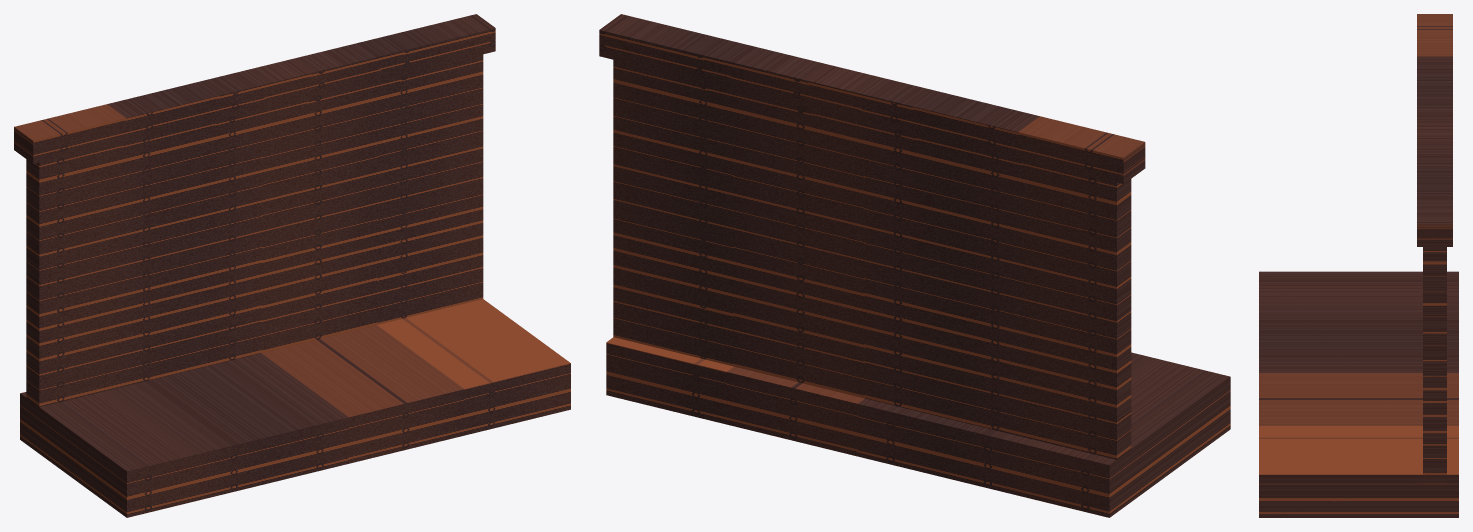
Rendered from escenario_musica.obj.
3 renders of one model, left to right at view 1: azimuth 30°, elevation 25°; view 2: azimuth 150°, elevation 25°; view 3: azimuth 270°, elevation 25°, orthographic. The views are drawn at different scales.
Parts seen in each view (by area): view 1: escenario_musica; view 2: escenario_musica; view 3: escenario_musica.
Boxes of the visible parts, bbox=[...] form: escenario_musica: bbox=[14, 14, 570, 517]; escenario_musica: bbox=[599, 14, 1230, 517]; escenario_musica: bbox=[1259, 14, 1458, 517].
Bounding box in the file's own units: 2.5 × 1.64 × 1.
1 material, 1 textured.
